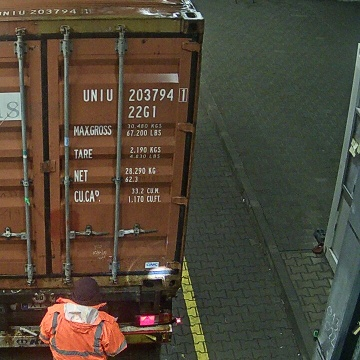serial_id: (83, 88, 186, 101)
